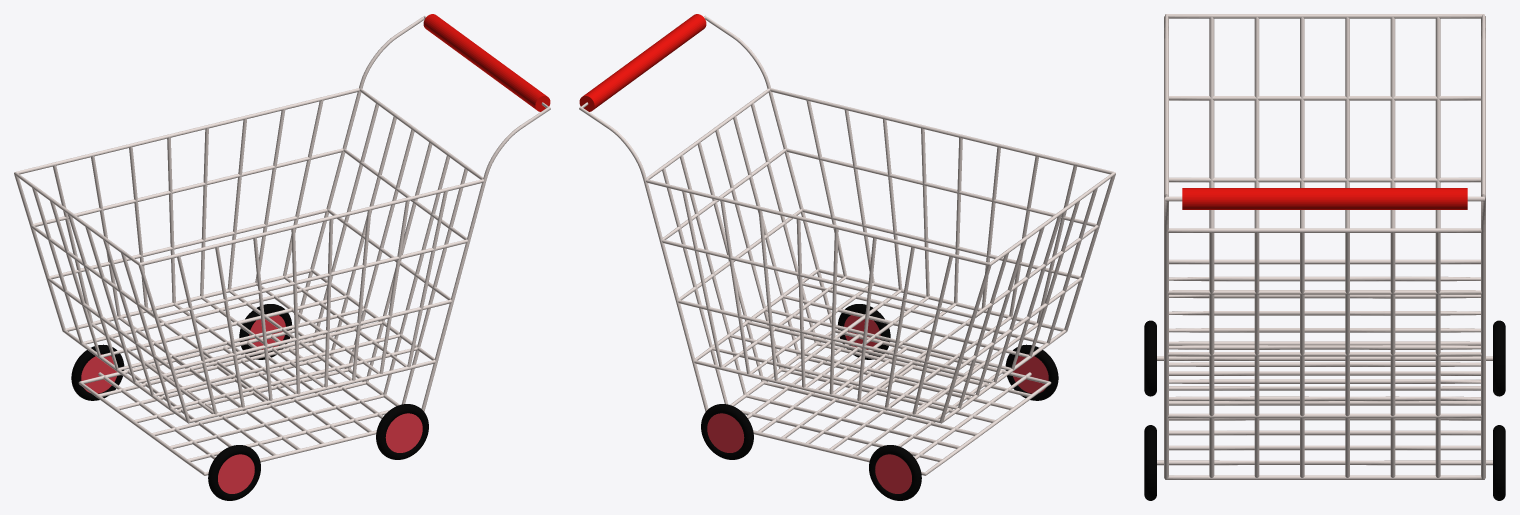
File: ShoppingCart.fbx
3 views of the same model, side by side, from view 1: azimuth 30°, elevation 25°; view 2: azimuth 150°, elevation 25°; view 3: azimuth 270°, elevation 25° (orthographic). The views are drawn at different scales.
Visible parts, largest first — view 1: Cart, Cylinder, Torus.001, Torus, Torus.002, Torus.003; view 2: Cart, Cylinder, Torus.003, Torus.002, Torus, Torus.001; view 3: Cart, Cylinder, Torus, Torus.001, Torus.002, Torus.003.
Boxes of the visible parts, x1=… form: Cart: x1=14, y1=15, x2=550, y2=475; Cylinder: x1=423, y1=14, x2=550, y2=111; Torus.001: x1=376, y1=404, x2=428, y2=459; Torus: x1=208, y1=445, x2=260, y2=500; Torus.002: x1=71, y1=344, x2=124, y2=400; Torus.003: x1=239, y1=304, x2=291, y2=359; Cart: x1=579, y1=15, x2=1115, y2=475; Cylinder: x1=579, y1=14, x2=706, y2=111; Torus.003: x1=701, y1=404, x2=753, y2=459; Torus.002: x1=869, y1=445, x2=921, y2=500; Torus: x1=1005, y1=344, x2=1058, y2=400; Torus.001: x1=838, y1=304, x2=890, y2=359; Cart: x1=1157, y1=14, x2=1492, y2=479; Cylinder: x1=1182, y1=188, x2=1467, y2=209; Torus: x1=1144, y1=320, x2=1156, y2=396; Torus.001: x1=1144, y1=425, x2=1156, y2=500; Torus.002: x1=1493, y1=320, x2=1505, y2=396; Torus.003: x1=1493, y1=425, x2=1505, y2=500.
Bounding box in the file's own units: 389 × 281 × 228.
